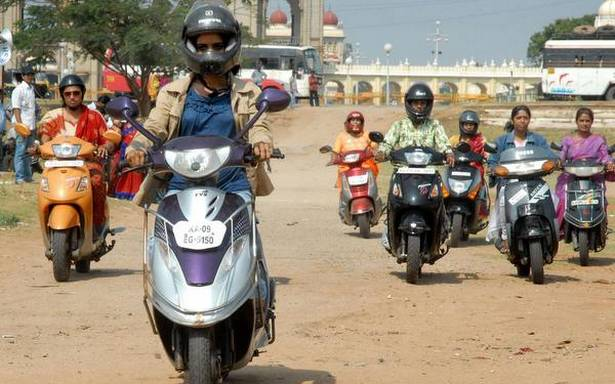bike: (130, 15, 281, 384), (36, 72, 104, 287), (381, 78, 451, 285), (500, 105, 561, 292), (559, 106, 614, 260), (333, 108, 378, 244), (441, 113, 491, 231)
bus: (538, 36, 615, 103), (240, 40, 327, 93)
